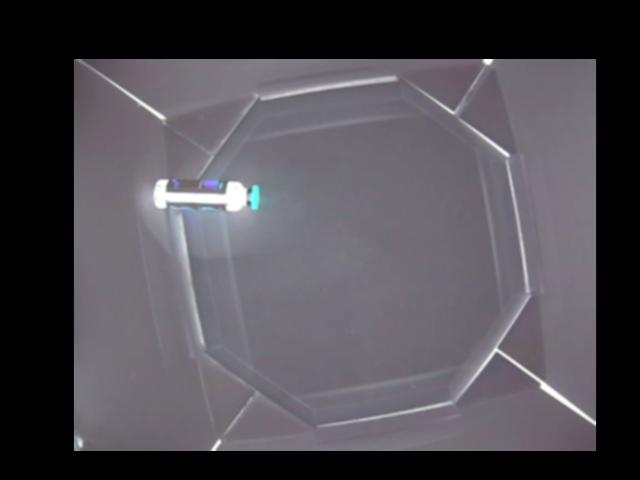Medicine: (152, 178, 259, 211)
